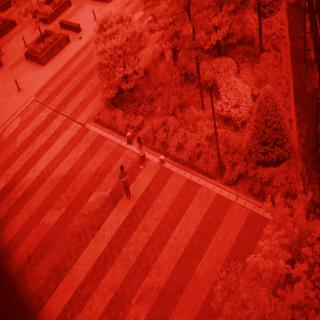person: (116, 160, 139, 209), (132, 129, 152, 171)
